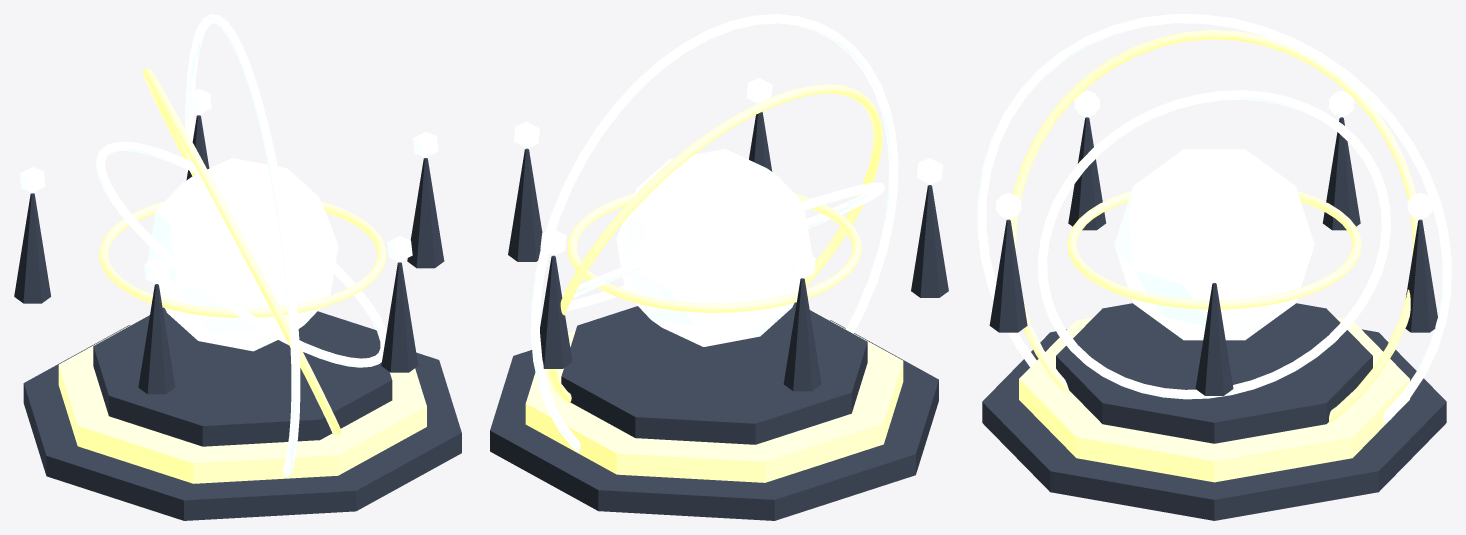
Rendered from gpu-blender-v34.glb.
The picture shows the model from 3 angles, left to right: view 1: azimuth 30°, elevation 25°; view 2: azimuth 150°, elevation 25°; view 3: azimuth 270°, elevation 25°; orthographic projection. The views are drawn at different scales.
Visible parts, largest first — view 1: Cylinder.002, SovereignCore_adytum-alchemist-ai-workflow, Cylinder, Cylinder.001, Torus.003, Torus.001, Torus.002, Torus, Cone.003, Cone.004, Cone.002, Cone (+5 smaller); view 2: Cylinder.002, SovereignCore_adytum-alchemist-ai-workflow, Cylinder, Cylinder.001, Torus.003, Torus.002, Torus, Torus.001, Cone.002, Cone.003, Cone, Cone.001 (+4 smaller); view 3: SovereignCore_adytum-alchemist-ai-workflow, Cylinder.002, Cylinder, Cylinder.001, Torus.003, Torus.001, Torus.002, Torus, Cone.004, Cone, Cone.001, Cone.002 (+2 smaller).
Part boxes in pixels (bbox=[...]): Cylinder.002: bbox=[93, 307, 392, 446]; SovereignCore_adytum-alchemist-ai-workflow: bbox=[147, 158, 338, 351]; Cylinder: bbox=[23, 325, 461, 520]; Cylinder.001: bbox=[58, 315, 426, 483]; Torus.003: bbox=[185, 14, 300, 476]; Torus.001: bbox=[96, 141, 386, 367]; Torus.002: bbox=[142, 68, 341, 435]; Torus: bbox=[99, 201, 386, 317]; Cone.003: bbox=[138, 284, 175, 394]; Cone.004: bbox=[381, 262, 418, 372]; Cone.002: bbox=[14, 193, 50, 303]; Cone: bbox=[407, 158, 444, 268]; Cylinder.002: bbox=[561, 302, 867, 444]; SovereignCore_adytum-alchemist-ai-workflow: bbox=[616, 149, 812, 346]; Cylinder: bbox=[490, 320, 938, 520]; Cylinder.001: bbox=[525, 310, 903, 482]; Torus.003: bbox=[530, 14, 898, 452]; Torus.002: bbox=[547, 84, 882, 403]; Torus: bbox=[567, 193, 861, 312]; Torus.001: bbox=[561, 182, 884, 311]; Cone.002: bbox=[783, 278, 821, 391]; Cone.003: bbox=[911, 185, 948, 297]; Cone: bbox=[508, 148, 542, 261]; Cone.001: bbox=[540, 255, 572, 368]; SovereignCore_adytum-alchemist-ai-workflow: bbox=[1114, 149, 1314, 340]; Cylinder.002: bbox=[1056, 303, 1372, 443]; Cylinder: bbox=[982, 329, 1446, 520]; Cylinder.001: bbox=[1019, 317, 1409, 482]; Torus.003: bbox=[977, 14, 1451, 424]; Torus.001: bbox=[1038, 90, 1390, 399]; Torus.002: bbox=[1008, 30, 1420, 422]; Torus: bbox=[1067, 191, 1361, 309]; Cone.004: bbox=[989, 219, 1027, 332]; Cone: bbox=[1195, 283, 1233, 395]; Cone.001: bbox=[1405, 219, 1437, 332]; Cone.002: bbox=[1322, 117, 1360, 230].
Bounding box in the file's own units: 4.41 × 4.7 × 4.49.
